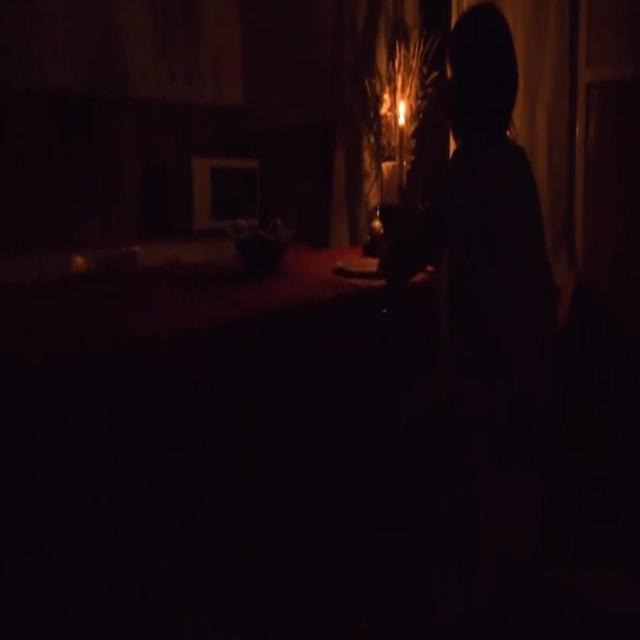smoke: (396, 94, 408, 125)
